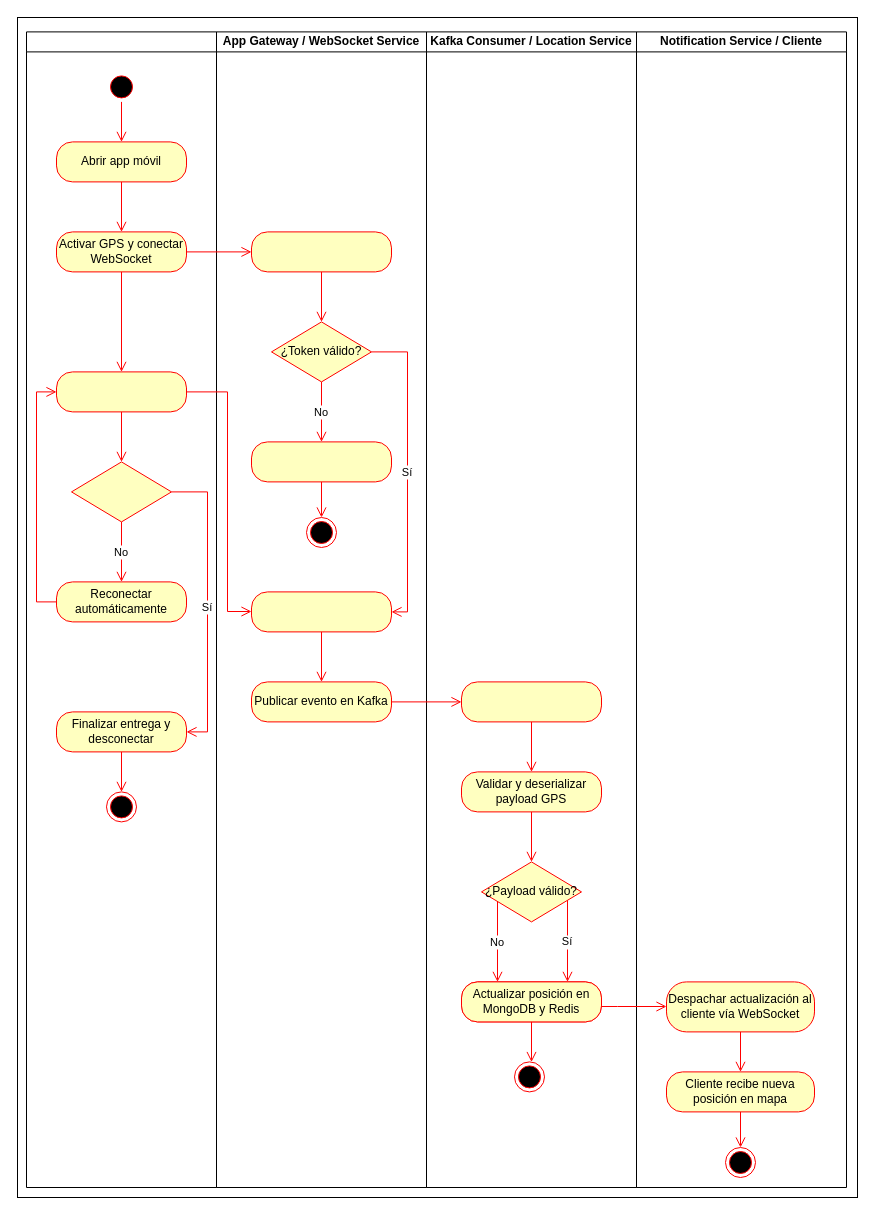
The diagram is 875 pixels wide and 1215 high, and some of its shapes have lost their labels. The shapes that lost their labels are listed below. From the top down, each one's box as (x1, y1, x2, y2) in pixels, then its label:
(250, 231, 392, 272): Recibir conexión WebSocket
(56, 371, 186, 412): Enviar coordenadas cada 3 seg
(250, 441, 392, 482): Rechazar conexión (401)
(70, 461, 172, 522): ¿Conexión activa?
(26, 31, 216, 1188): Repartidor
(250, 591, 392, 632): Aceptar conexión y recibir evento GPS
(460, 681, 602, 722): Consumir mensaje de Kafka
